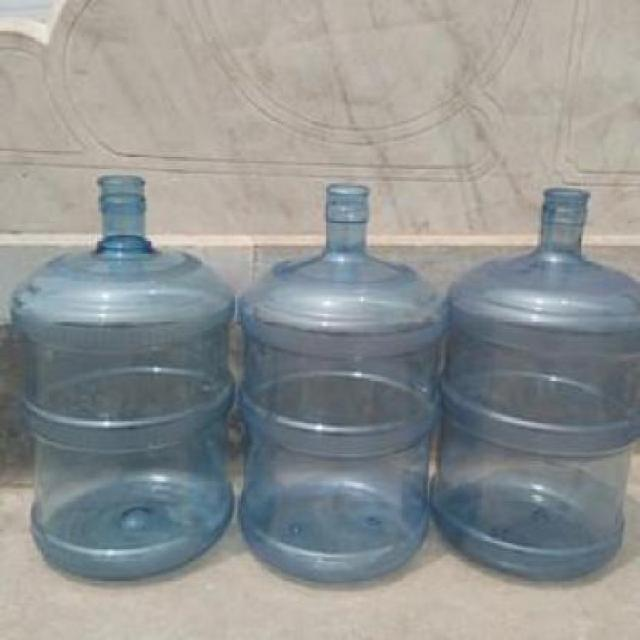coolerbottle: (6, 171, 239, 593), (234, 175, 451, 592), (429, 183, 640, 584)
